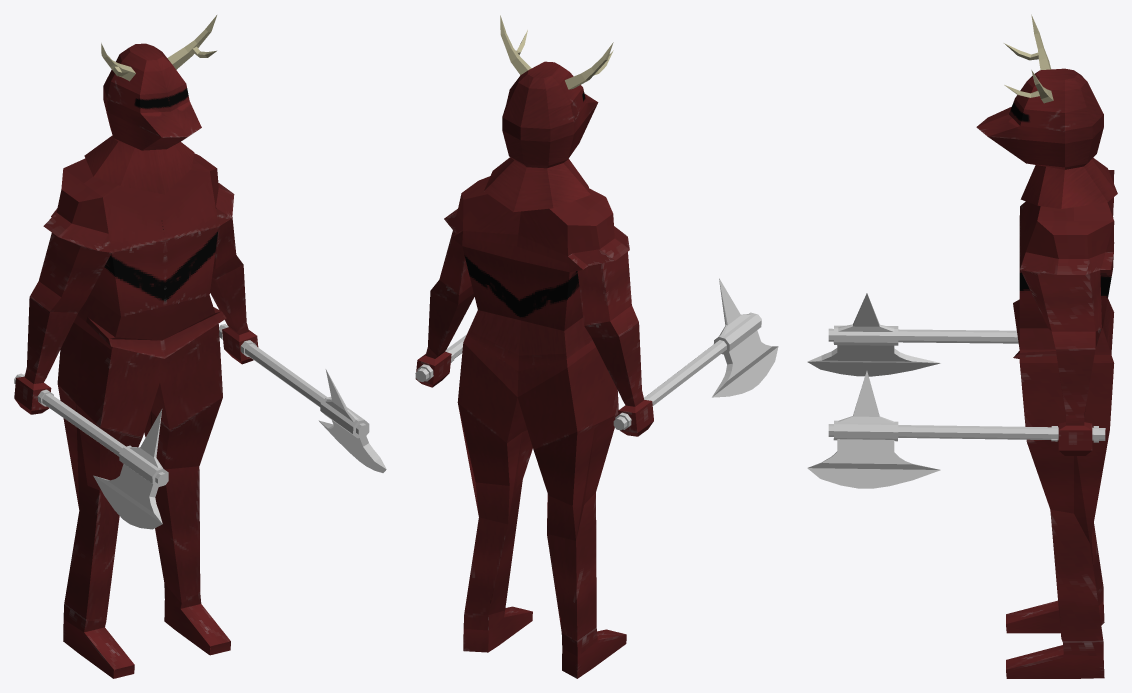
Rendered from red_knight_F1.fbx.
3 renders of one model, left to right at view 1: azimuth 30°, elevation 25°; view 2: azimuth 150°, elevation 25°; view 3: azimuth 270°, elevation 25°, orthographic. The views are drawn at different scales.
Visible parts, largest first — view 1: body.002; view 2: body.002; view 3: body.002.
Part boxes in pixels (left/top/right/bottom): body.002: left=14, top=15, right=386, bottom=678; body.002: left=415, top=15, right=778, bottom=678; body.002: left=807, top=14, right=1117, bottom=678.
Bounding box in the file's own units: 80.86 × 205 × 94.52.
